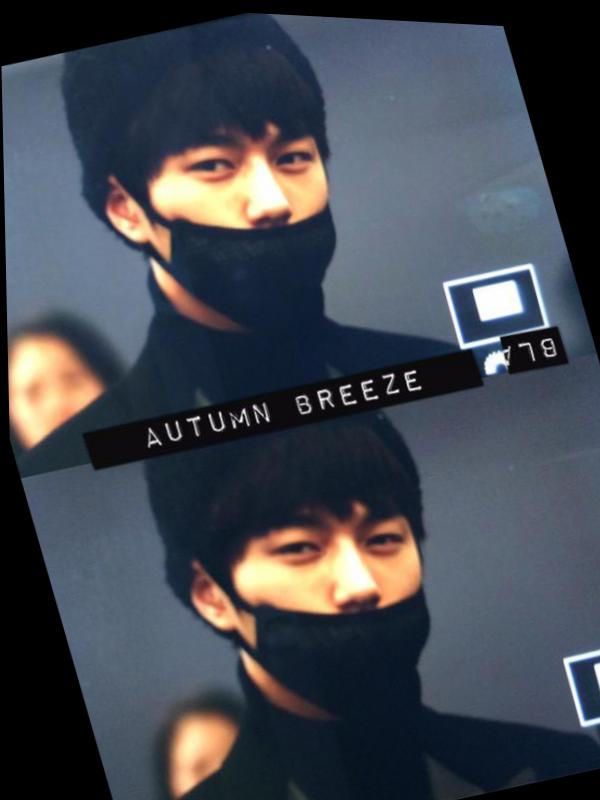WRONG: (203, 461, 457, 745), (130, 79, 362, 347)
